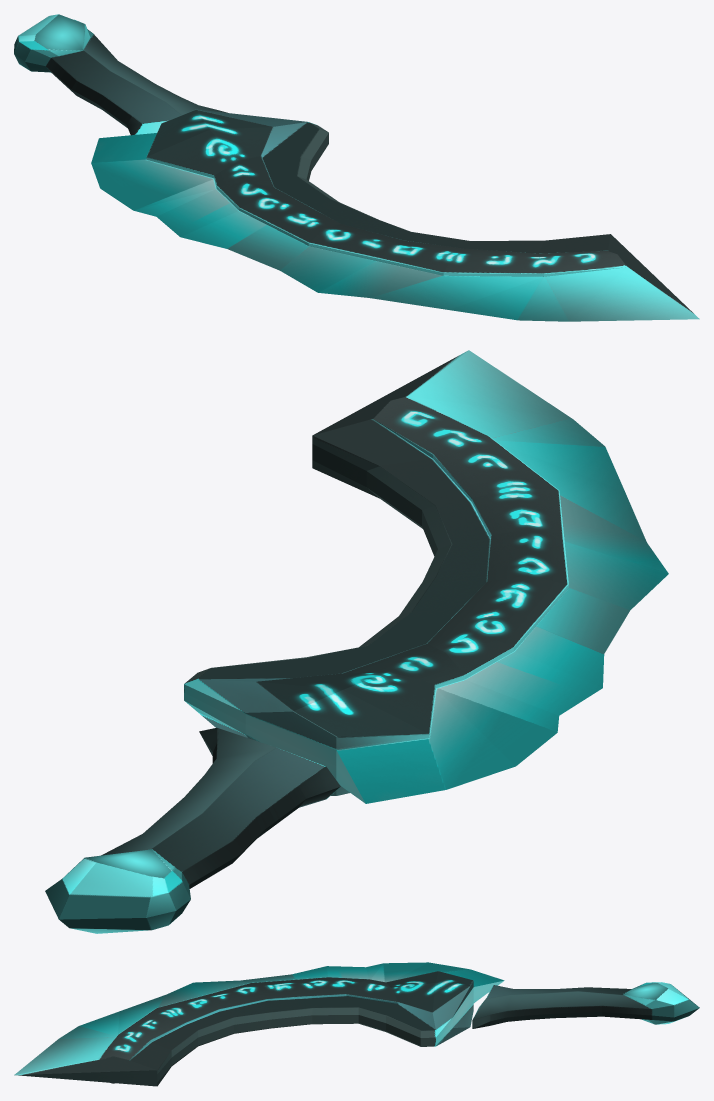
File: SWORD FB2.fbx
3 renders of one model, top to bottom at view 1: azimuth 30°, elevation 25°; view 2: azimuth 150°, elevation 25°; view 3: azimuth 270°, elevation 25°, orthographic. The views are drawn at different scales.
Visible parts, largest first — view 1: Sword; view 2: Sword; view 3: Sword.
Boxes of the visible parts, x1,y1,x2,y2 form: Sword: (14,14,699,321); Sword: (45,350,668,933); Sword: (14,962,699,1086).
Size of the model in its own units: 0.5941 by 0.0981 by 1.49.
Materials: 1 (1 with a texture image).
